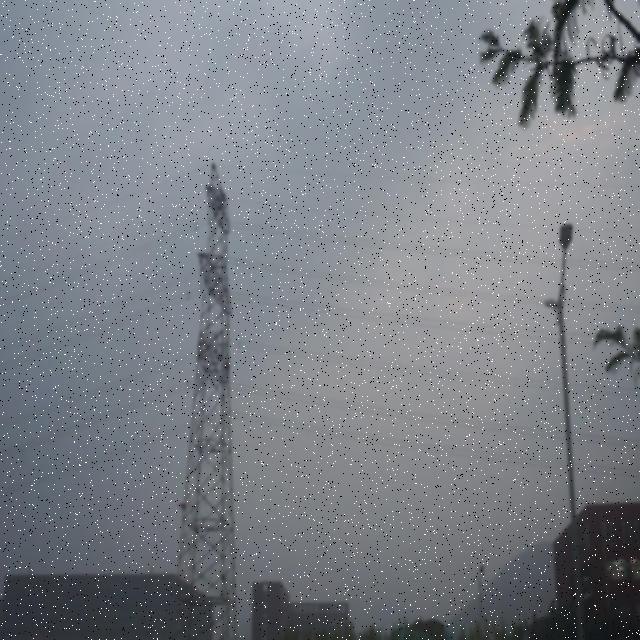UAV: (177, 502, 186, 511)
